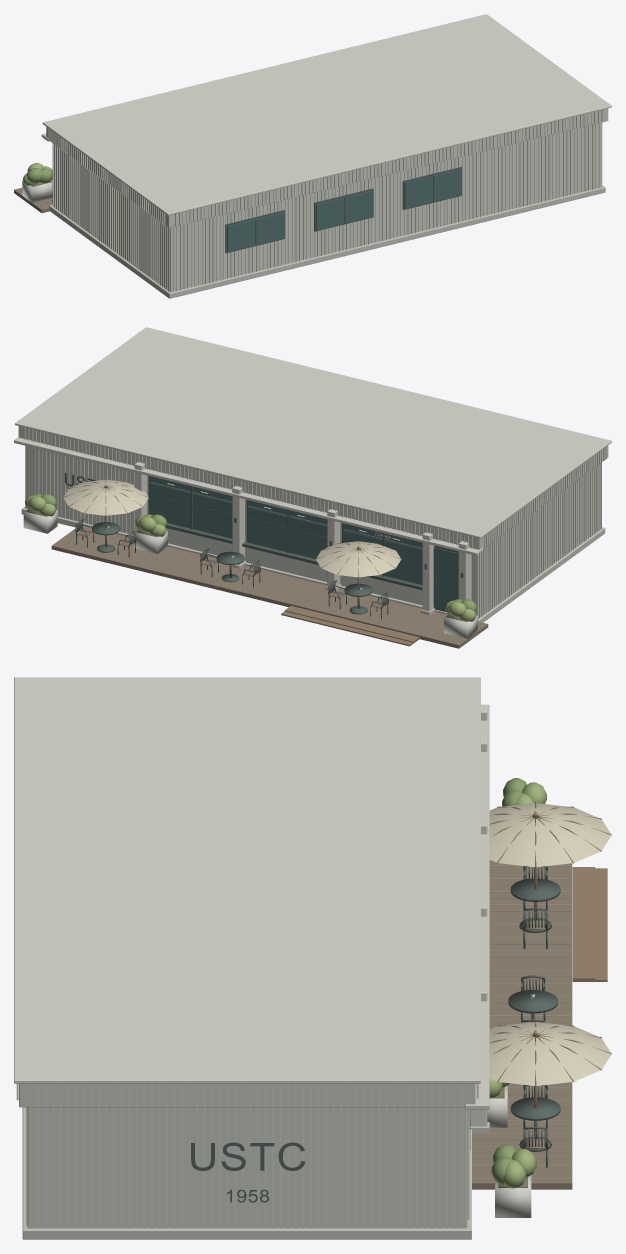
Rendered from plaza_cafe.glb.
3 renders of one model, top to bottom at view 1: azimuth 30°, elevation 25°; view 2: azimuth 150°, elevation 25°; view 3: azimuth 270°, elevation 25°, orthographic. The views are drawn at different scales.
Parts seen in each view (by area): view 1: Cafe_NorthGateIvory, Cafe_NorthSoffit, Cafe_Glass, Cafe_Stone, Cafe_Frame; view 2: Cafe_NorthGateIvory, Cafe_NorthSoffit, Cafe_NorthCourtWood, Cafe_Glass, Cafe_PlazaCanvas, Cafe_Metal, Cafe_Wood, Cafe_Frame, Cafe_Stone, Cafe_LeafLight, Cafe_NorthJoint, Cafe_GlassLight (+1 smaller); view 3: Cafe_NorthGateIvory, Cafe_NorthSoffit, Cafe_NorthCourtWood, Cafe_PlazaCanvas, Cafe_Stone, Cafe_Wood, Cafe_Metal, Cafe_NorthJoint, Cafe_LeafLight, Cafe_Frame, Cafe_Leaf.
Part boxes in pixels (x1,y1,x2,y2): Cafe_NorthGateIvory: (41, 14, 611, 291); Cafe_NorthSoffit: (22, 108, 608, 292); Cafe_Glass: (227, 169, 461, 251); Cafe_Stone: (49, 185, 605, 298); Cafe_Frame: (225, 166, 462, 253); Cafe_NorthGateIvory: (14, 327, 611, 618); Cafe_NorthSoffit: (18, 426, 608, 638); Cafe_NorthCourtWood: (51, 525, 488, 648); Cafe_Glass: (149, 476, 456, 609); Cafe_PlazaCanvas: (63, 479, 401, 577); Cafe_Metal: (75, 517, 463, 619); Cafe_Wood: (63, 479, 419, 646); Cafe_Frame: (65, 472, 458, 611); Cafe_Stone: (21, 506, 605, 622); Cafe_LeafLight: (25, 495, 475, 621); Cafe_NorthJoint: (56, 526, 483, 643); Cafe_GlassLight: (150, 482, 422, 550); Cafe_NorthGateIvory: (14, 677, 537, 1228); Cafe_NorthSoffit: (19, 1083, 531, 1228); Cafe_NorthCourtWood: (472, 860, 572, 1189); Cafe_PlazaCanvas: (489, 803, 611, 1085); Cafe_Stone: (22, 1107, 489, 1239); Cafe_Wood: (489, 802, 611, 1139); Cafe_Metal: (508, 866, 560, 1167); Cafe_NorthJoint: (472, 865, 570, 1179); Cafe_LeafLight: (489, 782, 546, 1188); Cafe_Frame: (191, 1110, 470, 1202); Cafe_Leaf: (491, 778, 526, 1184).
Size of the model in its own units: 19.85 by 3.69 by 12.24.
